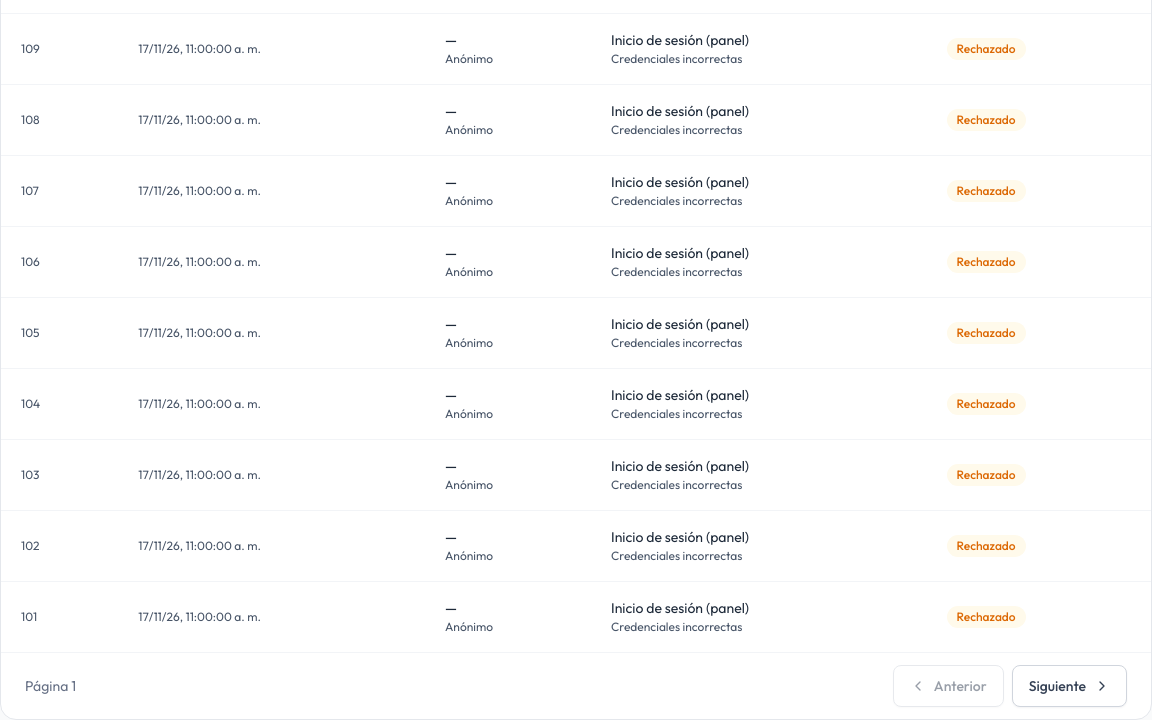
Test: Auditoría › con 100 eventos permite pasar de página
(page scrolled)
Click the button "Siguiente".
click(1069, 686)  # box [1012, 665, 1127, 707]
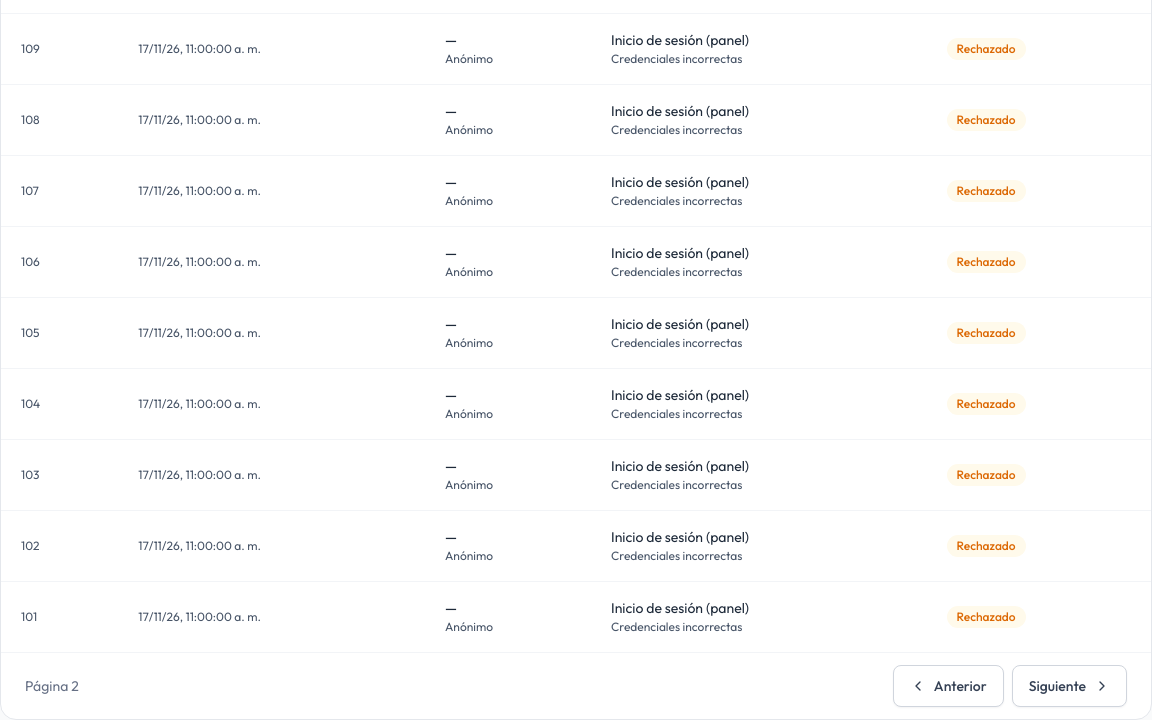
Expected: the text "Página 2" is shown, [25, 676, 79, 696]
